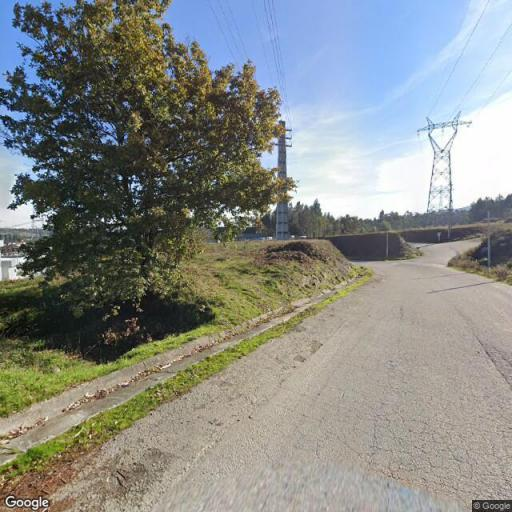mono_9: (266, 113, 295, 244)
wt_5: (416, 111, 474, 220)
